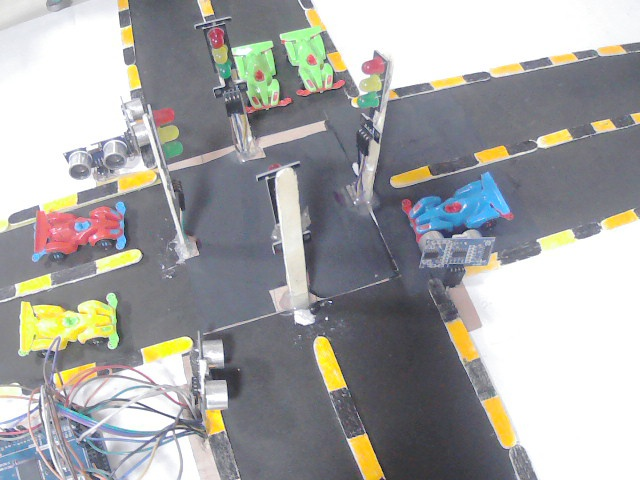car: (398, 194, 529, 247), (14, 301, 120, 351), (278, 31, 352, 92), (233, 45, 301, 108), (23, 218, 138, 253)
traffic_light: (262, 163, 314, 239), (145, 113, 194, 157), (200, 39, 243, 89), (359, 58, 384, 114)
uno_breadboard: (1, 426, 99, 480), (187, 339, 225, 426), (118, 102, 154, 160), (60, 153, 131, 178)
